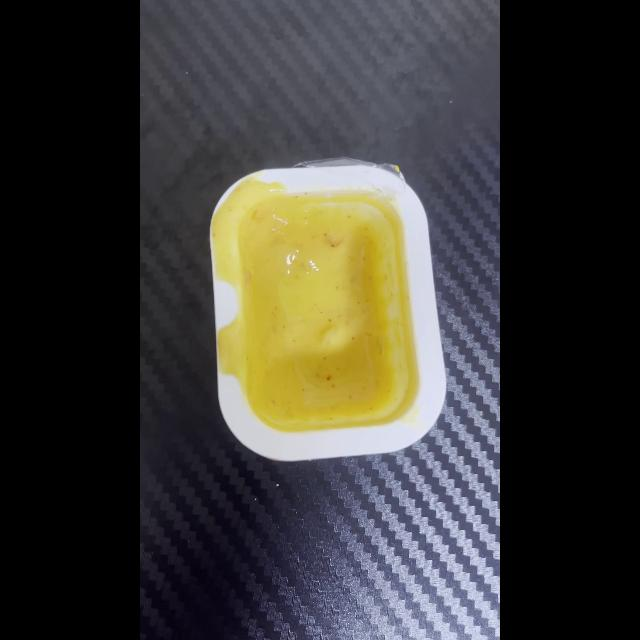dirty: (213, 164, 437, 456)
